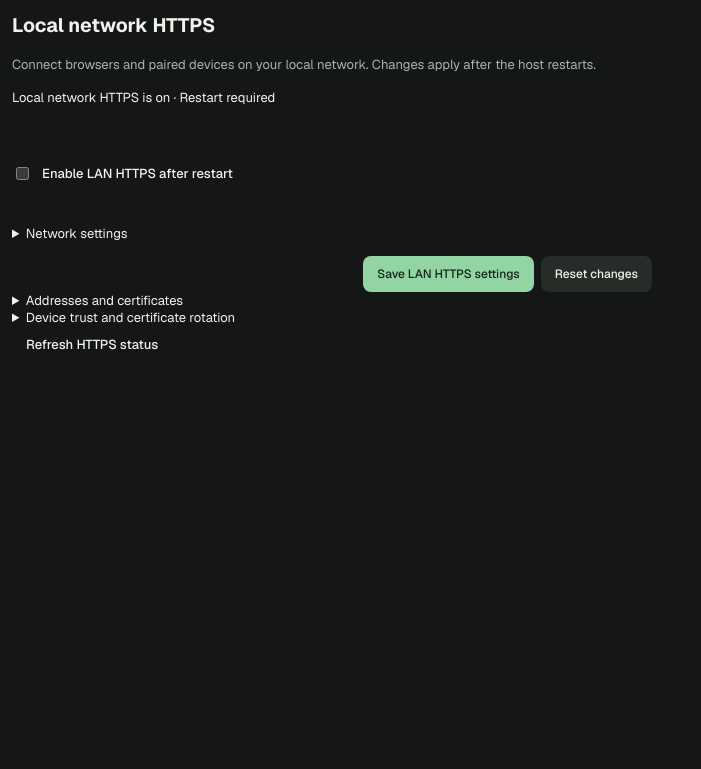
Test: preserves failed drafts without acknowledging a save and keeps active public certificate diagnostics available
Expected: the checkbox is shown, [16, 167, 29, 180]
Click the heading "Addresses and certificates" at (104, 301), box [26, 292, 183, 309]
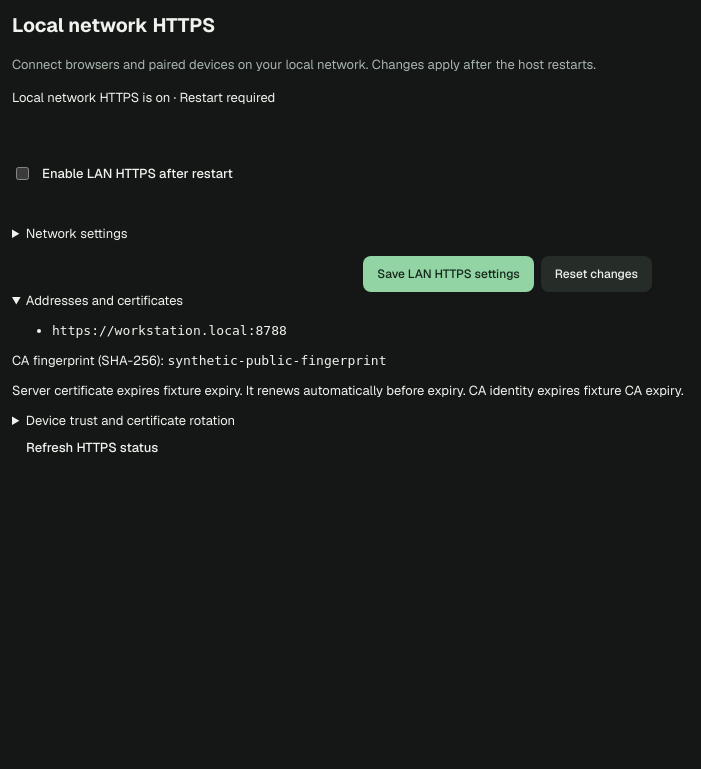
Expected: the text "https://workstation.local:8788" is shown, [52, 323, 287, 338]
Expected: the text "synthetic-public-fingerprint" is shown, [167, 353, 387, 368]
Click the heading "Network settings" at (77, 234), box [26, 225, 128, 242]
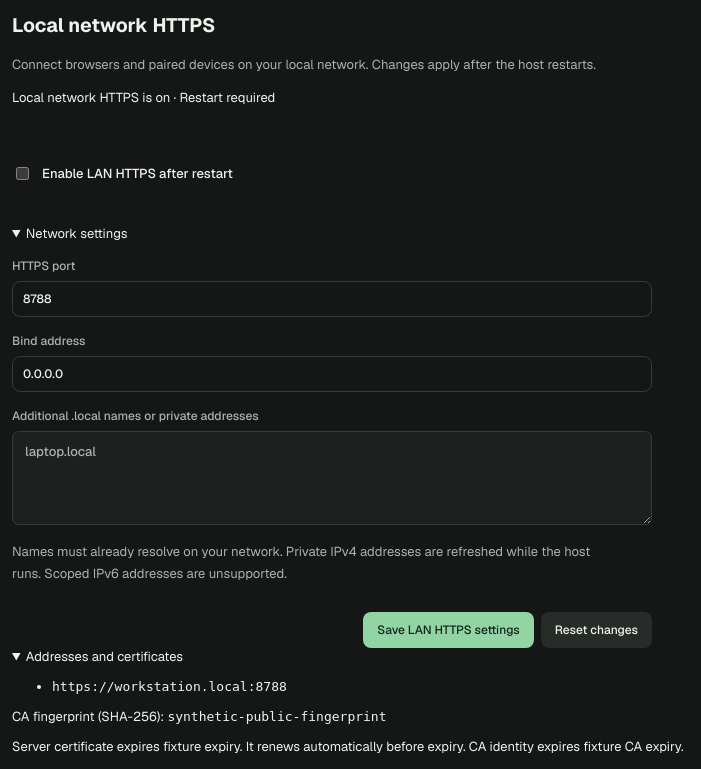
Replace the text in the number field labelled "HTTPS port" with "9443" at (332, 299), box [12, 281, 652, 317]
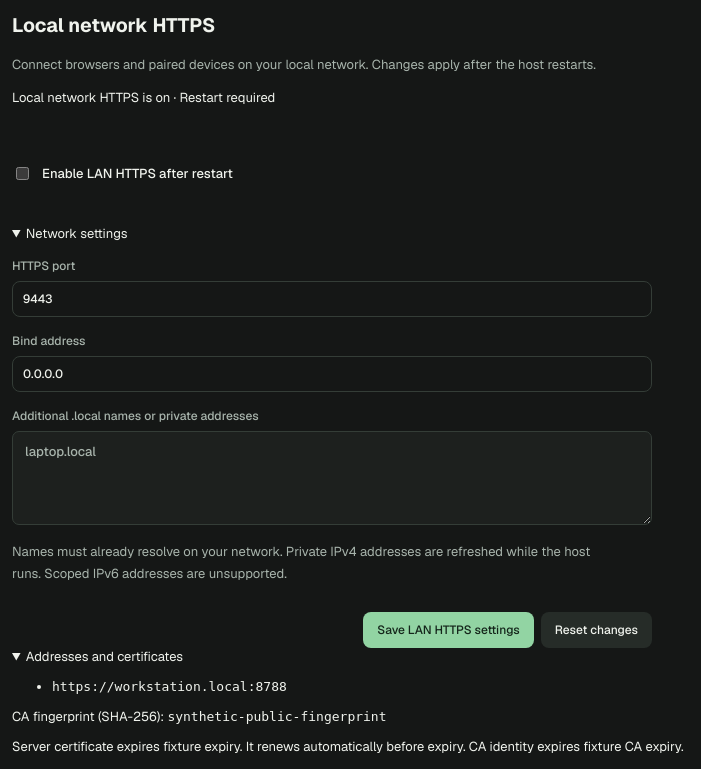
Click the button "Save LAN HTTPS settings" at (449, 630), box [363, 612, 534, 648]
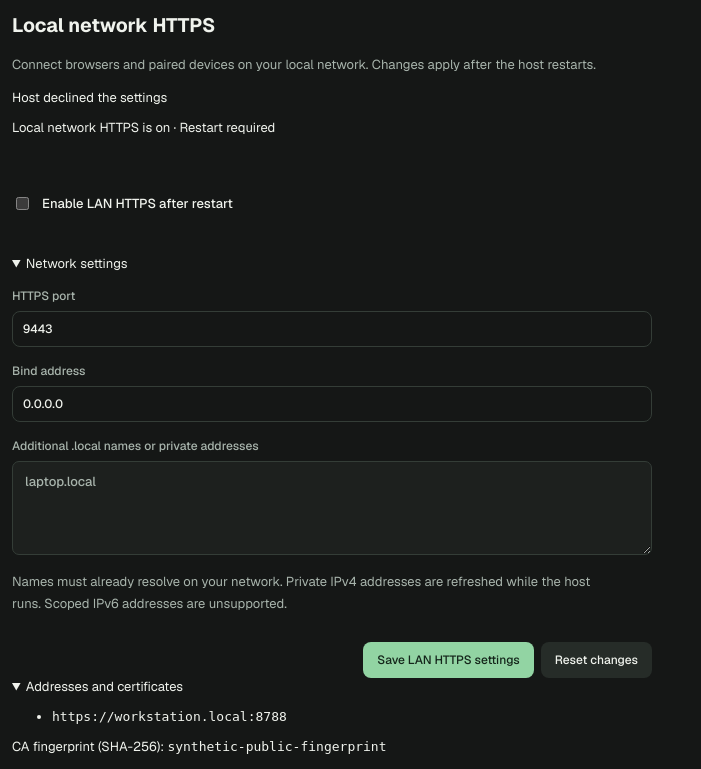
Expected: the message "Host declined the settings" is shown, [12, 89, 167, 106]
